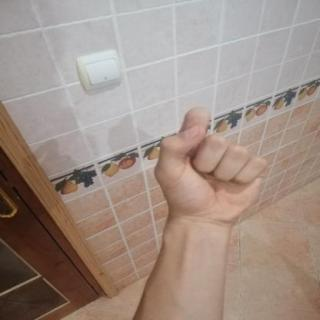FAA: (140, 98, 279, 234)
